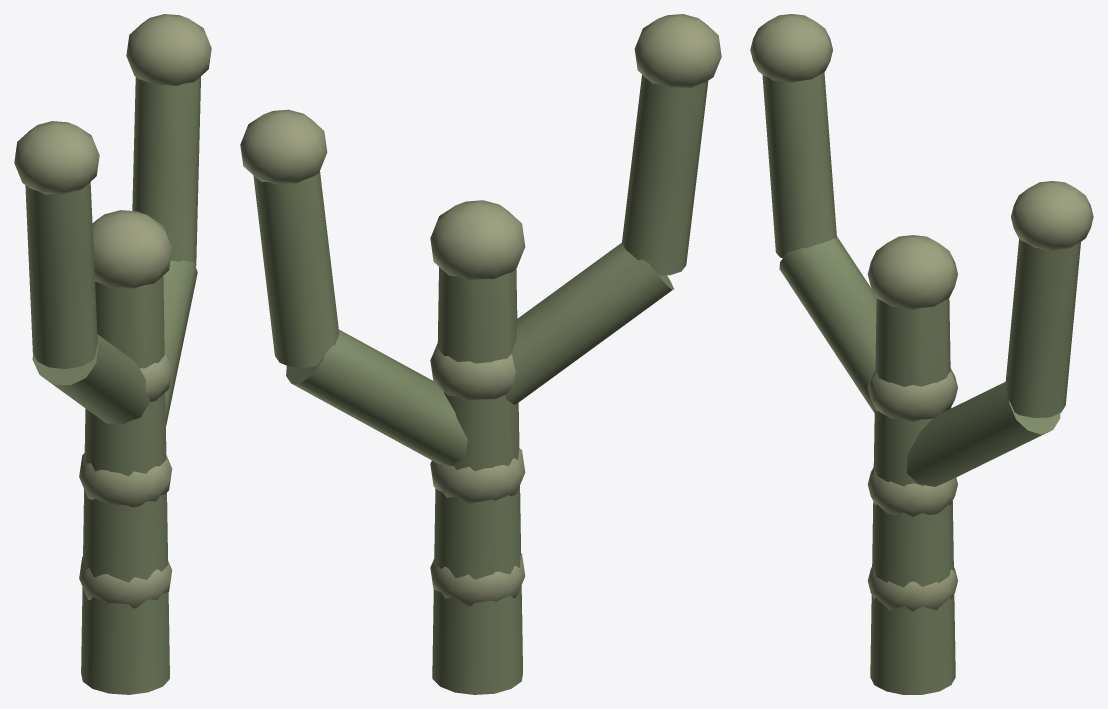
The model's file is cholla_a.glb.
3 renders of one model, left to right at view 1: azimuth 30°, elevation 25°; view 2: azimuth 150°, elevation 25°; view 3: azimuth 270°, elevation 25°, orthographic. The views are drawn at different scales.
Visible parts, largest first — view 1: Surface; view 2: Surface; view 3: Surface.
Boxes of the visible parts, box(x1,y1,x2,y2) form: Surface: box(14, 14, 211, 694); Surface: box(240, 14, 721, 694); Surface: box(750, 14, 1093, 694).
Bounding box in the file's own units: 1.12 × 2.09 × 1.09.
